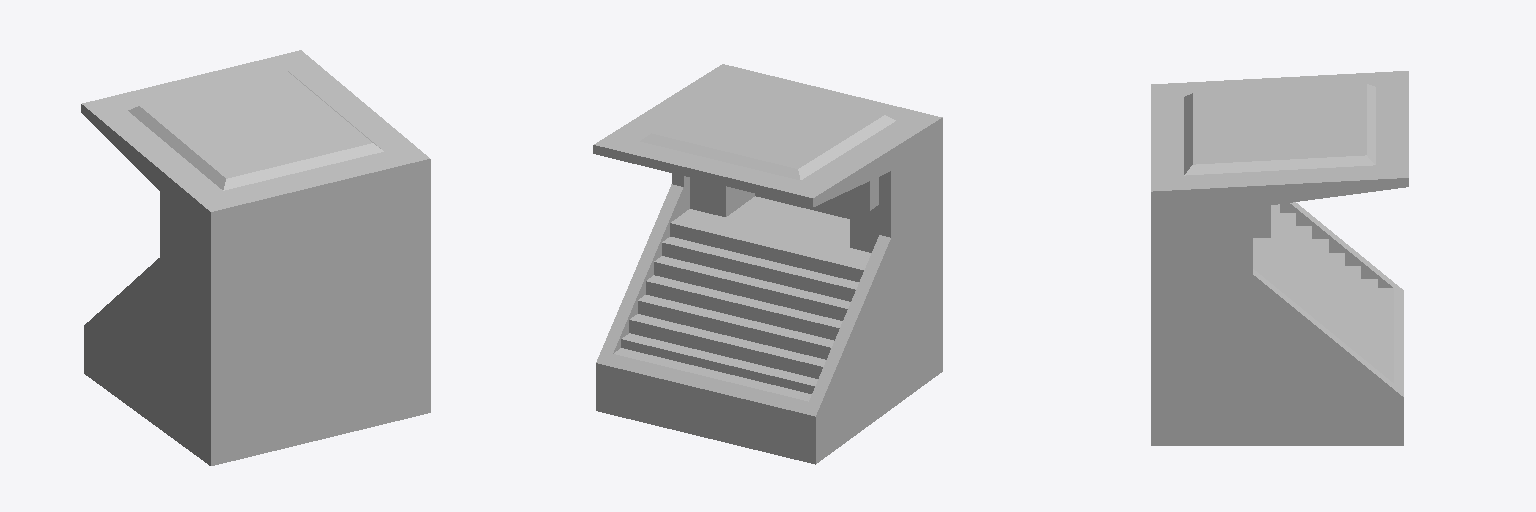
Rendered from grandStandCovered.obj.
3 renders of one model, left to right at view 1: azimuth 30°, elevation 25°; view 2: azimuth 150°, elevation 25°; view 3: azimuth 270°, elevation 25°, orthographic.
Visible parts, largest first — view 1: grandStandCovered; view 2: grandStandCovered; view 3: grandStandCovered.
Part boxes in pixels (x1,y1,x2,y2): grandStandCovered: (81,50,430,465); grandStandCovered: (593,64,942,464); grandStandCovered: (1151,71,1408,445).
Bounding box in the file's own units: 1 × 1.19 × 1.02.